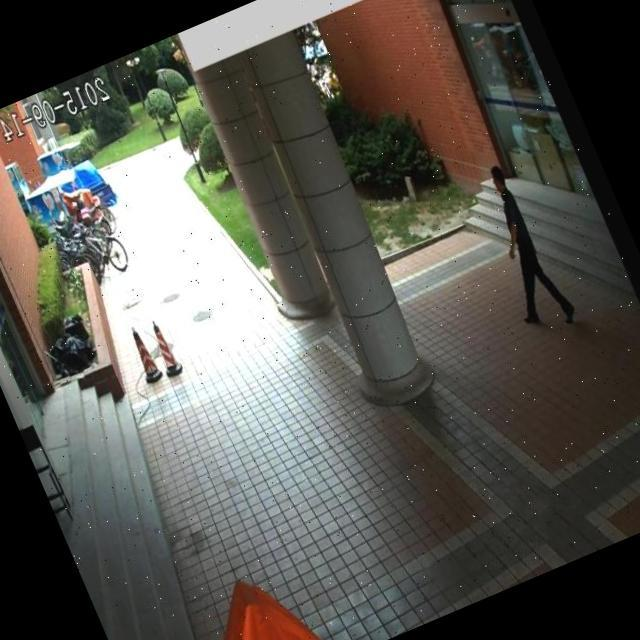person: (458, 149, 589, 349)
